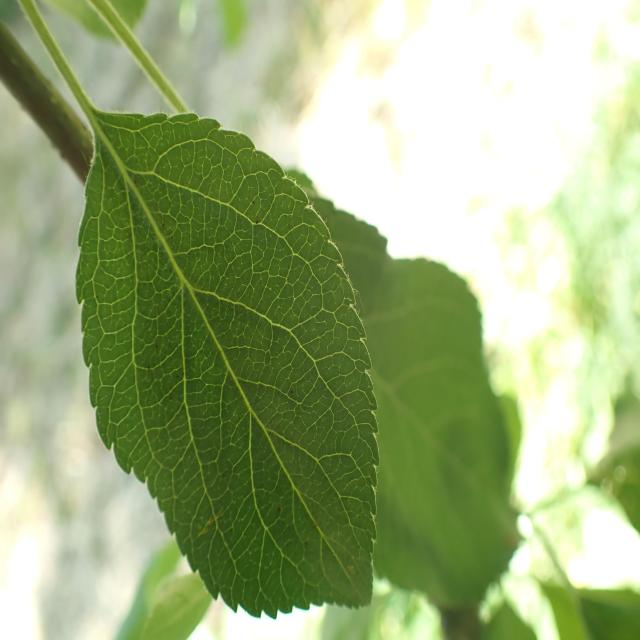healthy: (76, 109, 379, 618), (281, 164, 518, 606)
